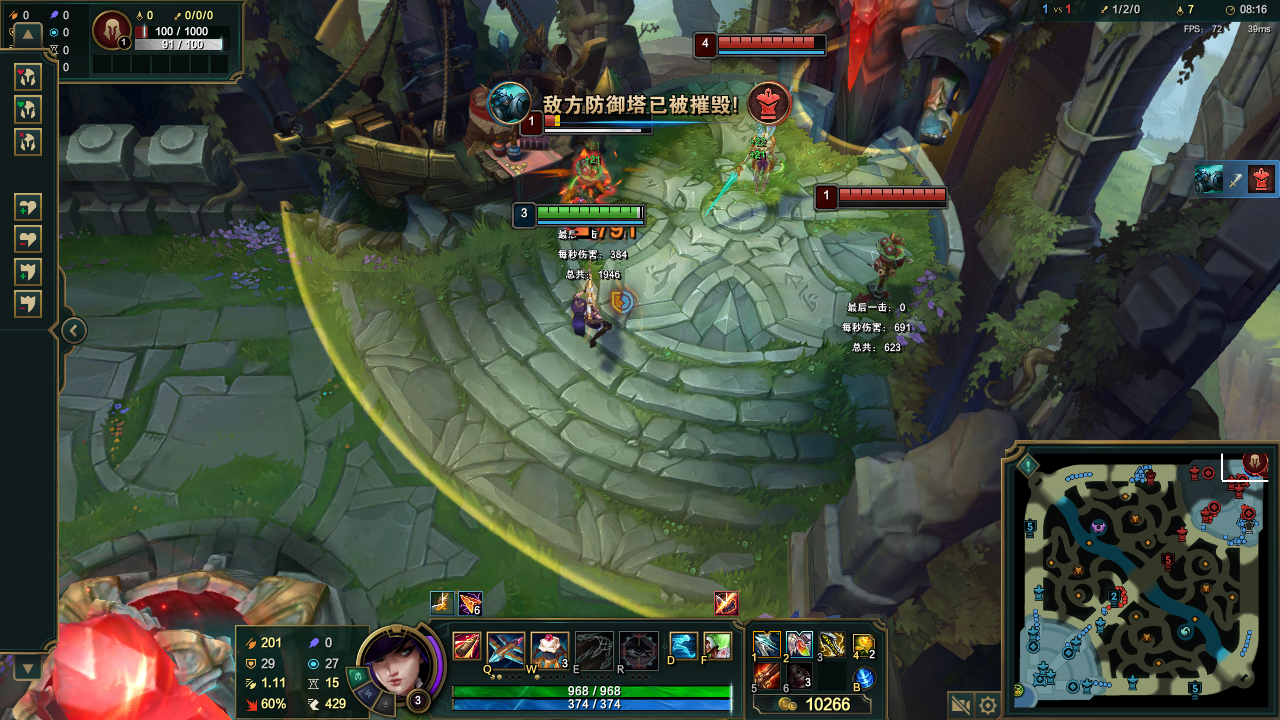DFYX: (718, 34, 823, 48), (544, 114, 649, 128), (836, 190, 948, 199)
